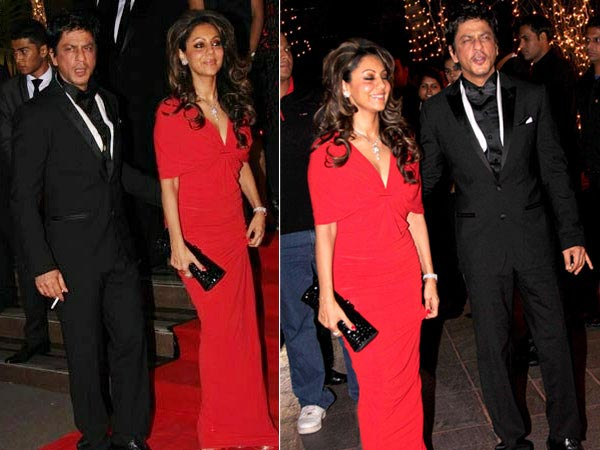cigarette: (45, 286, 65, 314)
not_cigarette: (110, 1, 122, 43)
